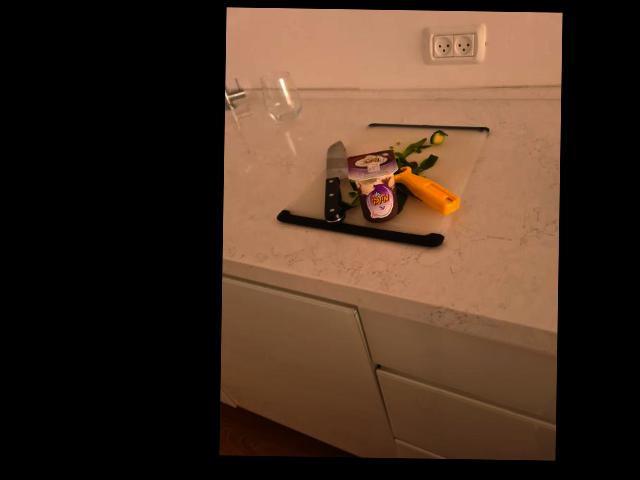milky: (350, 146, 399, 226)
